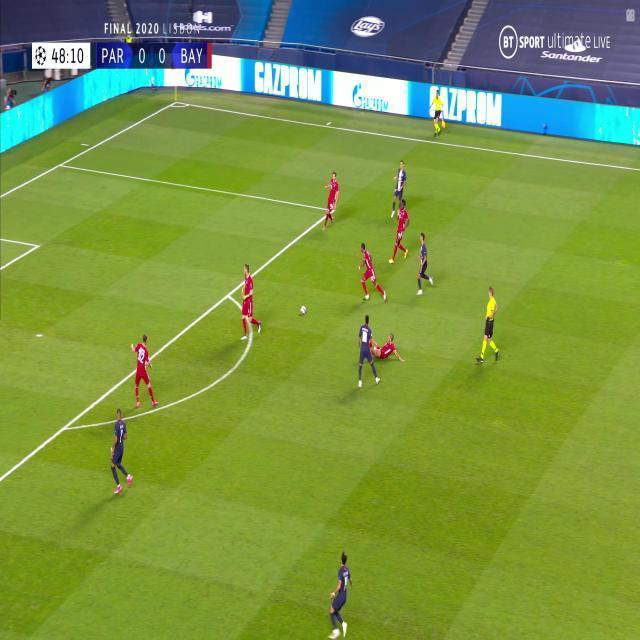ball: (300, 304, 306, 316)
player: (130, 334, 160, 413), (327, 552, 353, 640), (109, 408, 134, 498), (356, 315, 382, 391), (239, 264, 262, 346), (357, 241, 387, 302), (390, 198, 411, 265), (415, 231, 435, 295), (322, 170, 340, 230), (389, 160, 407, 218), (371, 332, 403, 364)
referee: (474, 286, 501, 367), (429, 89, 446, 138)
